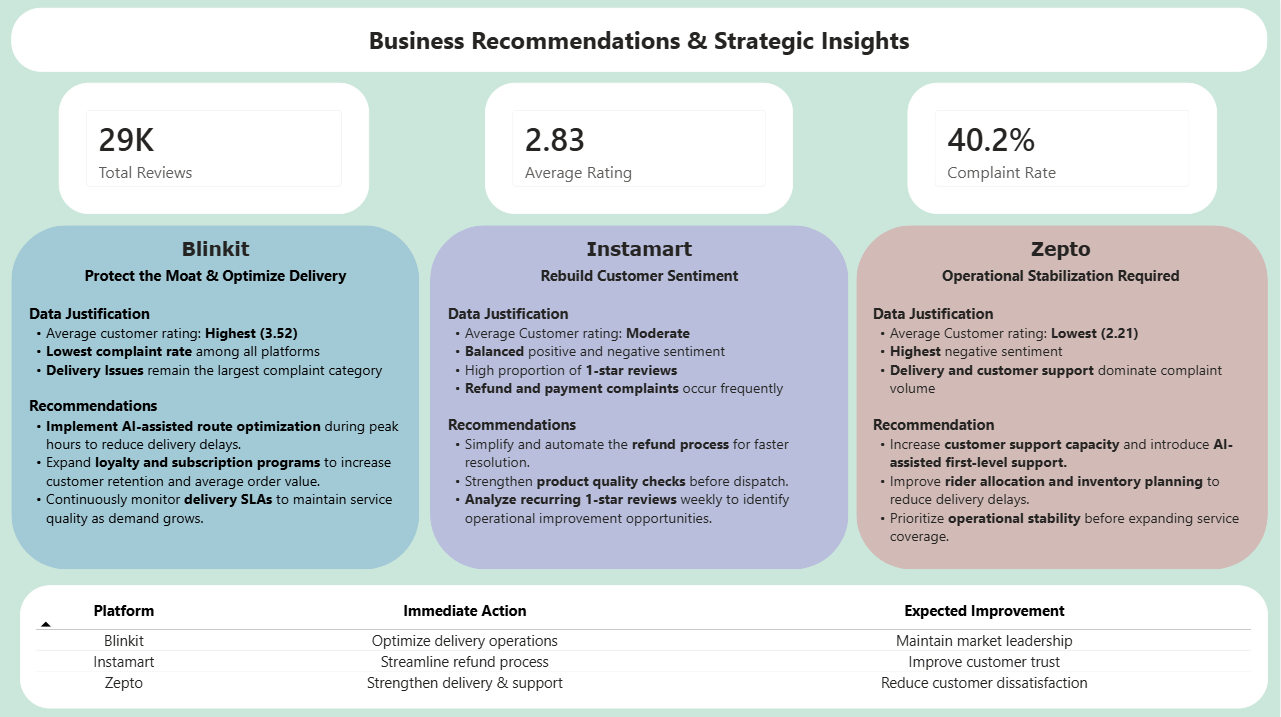

What the dashboard file says about the page in this screenshot:
{"tool":"powerbi","page":{"name":"Business Recommendations","canvas":[1280,720],"ordinal":3},"visuals":[{"type":"shape","box":[855.8,226.7,411.6,344.2],"z":0},{"type":"shape","box":[430.2,226.7,418.6,344.2],"z":1000},{"type":"shape","title":"Blinkit   ","box":[11.6,226.7,408.1,344.2],"z":2000},{"type":"textbox","box":[11.6,8.1,1255.8,64],"z":3000},{"type":"cardVisual","fields":{"Data":["QuickCommerce_Clean.Total Reviews"]},"box":[59.3,83.7,310.5,131.4],"z":4000},{"type":"cardVisual","fields":{"Data":["QuickCommerce_Clean.Average Rating"]},"box":[484.9,83.7,308.1,131.4],"z":5000},{"type":"cardVisual","fields":{"Data":["QuickCommerce_Complaints.Complaint Rate %"]},"box":[907,83.7,309.3,131.4],"z":6000},{"type":"textbox","title":"Blinkit","box":[19.8,239.4,390.7,324.4],"z":7000},{"type":"textbox","title":"Instamart","box":[438.4,239.2,401.2,324.4],"z":8000},{"type":"textbox","title":"Zepto","box":[864,239.2,394.2,324.4],"z":9000},{"type":"tableEx","fields":{"Values":["Executive Action Plan.Platform","Executive Action Plan.Immediate Action","Executive Action Plan.Expected Improvement"]},"box":[19.8,586,1247.7,123.3],"z":10000}]}

Visuals, with their boxes in screenshot pixels (x1, y1, x2, y2), scaled from the page's 1280x720 canvas onto the 1281x717 screenshot:
shape: <bbox>856, 226, 1268, 569</bbox>
shape: <bbox>431, 226, 849, 569</bbox>
"Blinkit   " shape: <bbox>12, 226, 420, 569</bbox>
textbox: <bbox>12, 8, 1268, 72</bbox>
cardVisual - QuickCommerce_Clean.Total Reviews: <bbox>59, 83, 370, 214</bbox>
cardVisual - QuickCommerce_Clean.Average Rating: <bbox>485, 83, 794, 214</bbox>
cardVisual - QuickCommerce_Complaints.Complaint Rate %: <bbox>908, 83, 1217, 214</bbox>
"Blinkit" textbox: <bbox>20, 238, 411, 561</bbox>
"Instamart" textbox: <bbox>439, 238, 840, 561</bbox>
"Zepto" textbox: <bbox>865, 238, 1259, 561</bbox>
tableEx - Executive Action Plan.Platform x Executive Action Plan.Immediate Action: <bbox>20, 584, 1268, 706</bbox>
